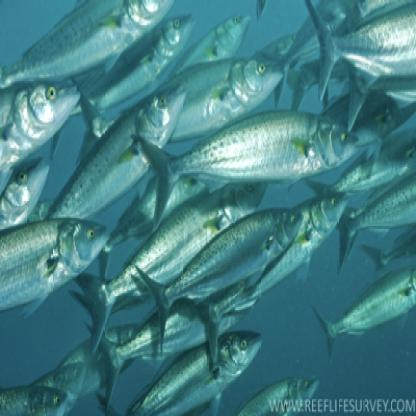tuna: (137, 113, 365, 247)
